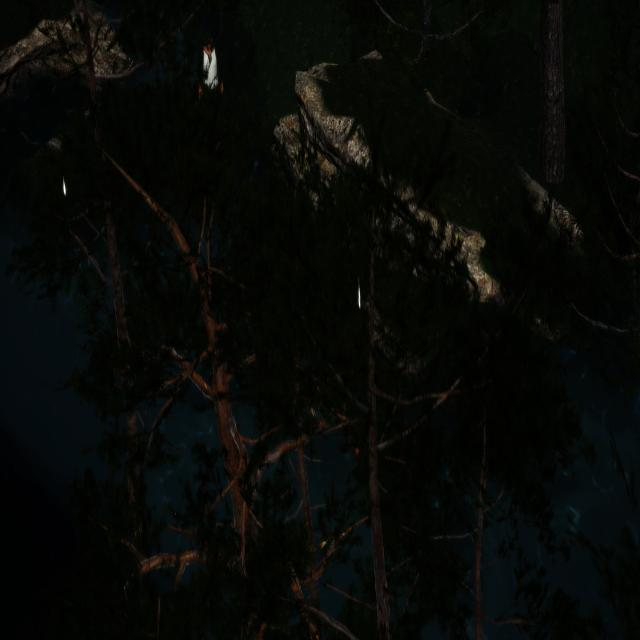Human: (195, 34, 225, 114)
